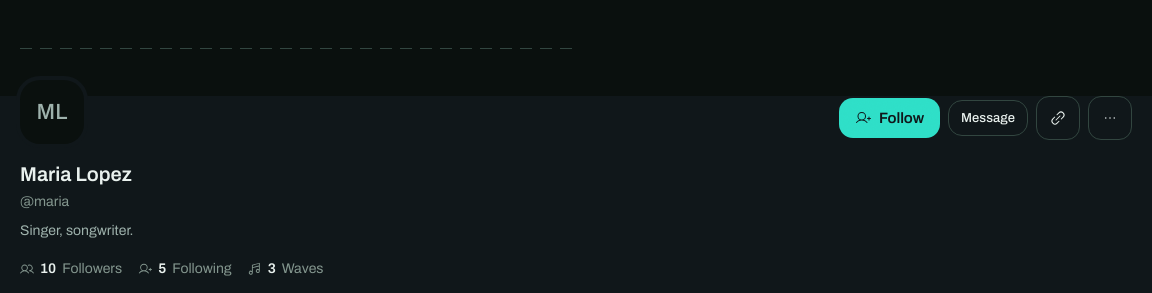
Scenario: ProfileHeader › blocked: the overflow menu offers Unblock instead of Block
Click the button named "more actions".
click(1110, 118)  # box [1088,96,1132,140]
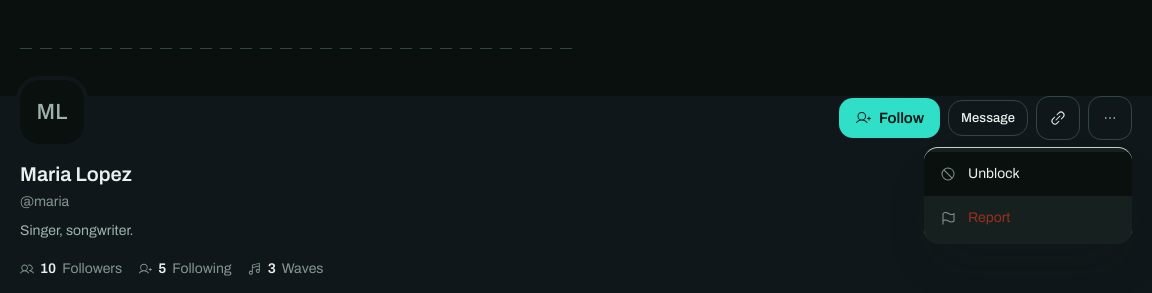
Result: the menu item "Unblock" is shown at [924,152,1132,196]
